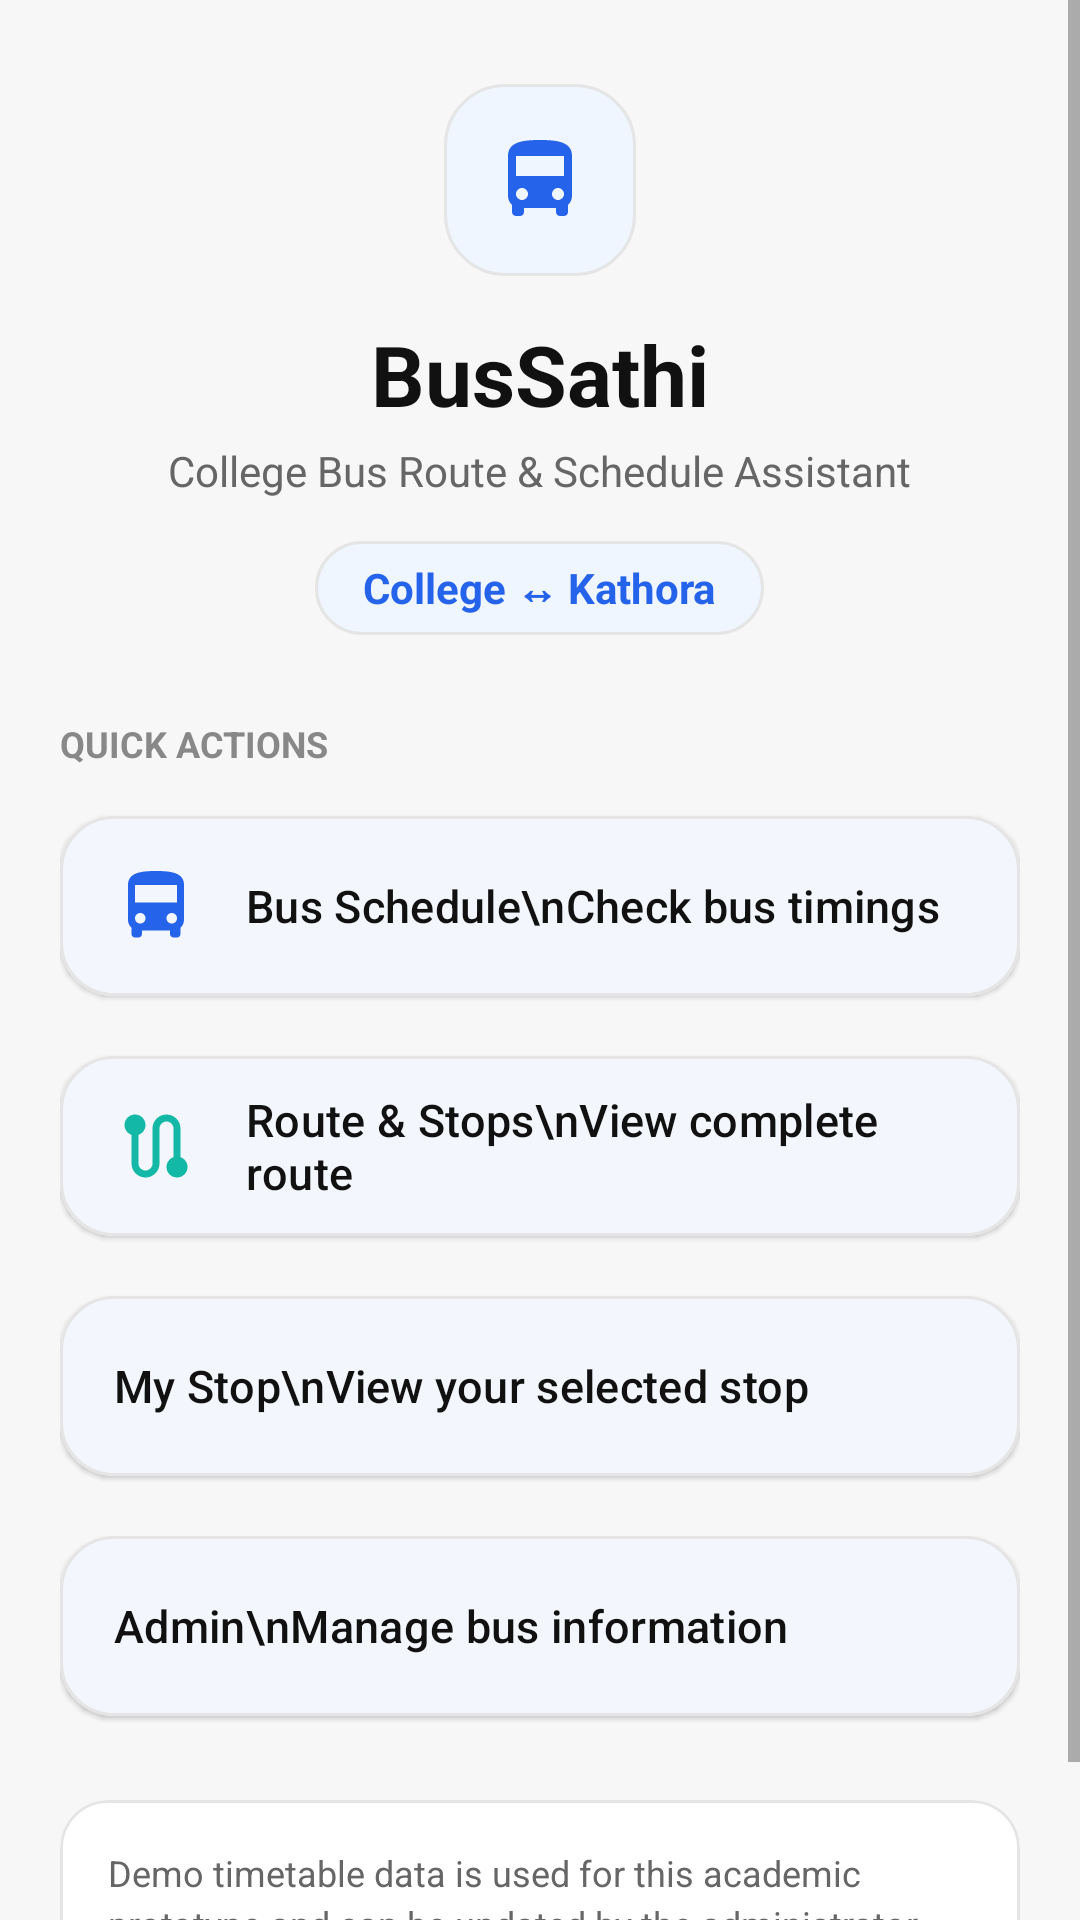

Icons on this 1080w x 1920h Android screen, each with its box as (x1,y1,x2,y2):
bus: (508,140,572,216)
